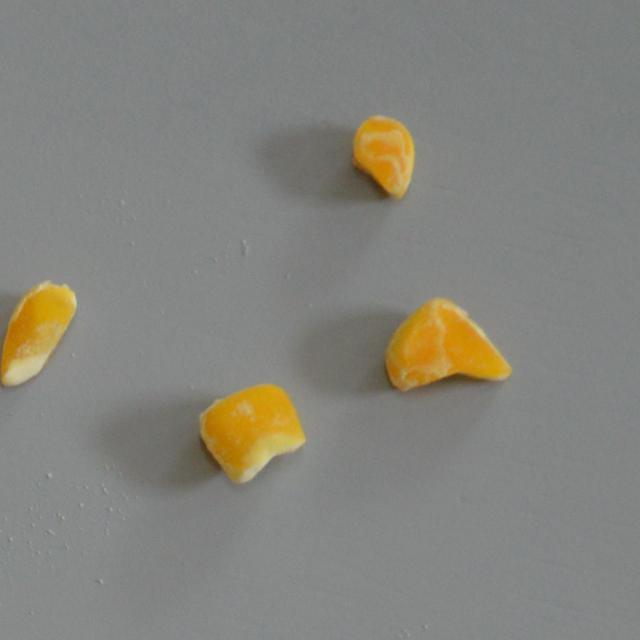dañado: (382, 292, 515, 398), (0, 276, 82, 392), (348, 108, 420, 203)
pelicula: (192, 378, 312, 487)
